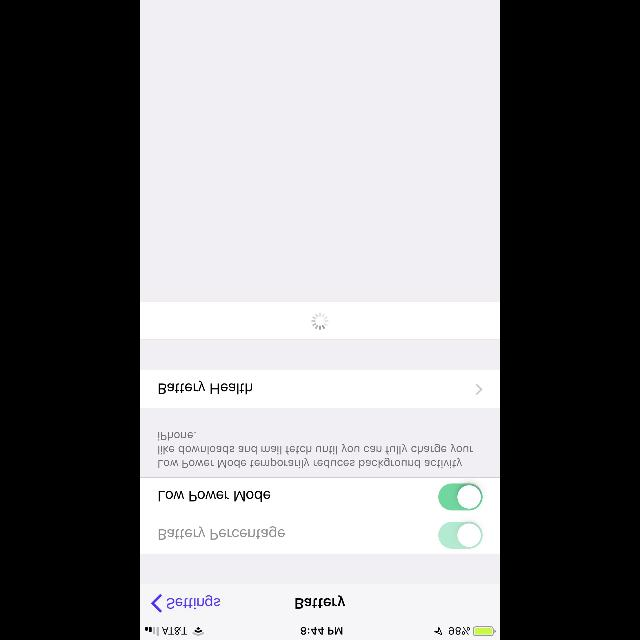icon: (152, 594, 162, 612), (476, 384, 482, 394)
switch: (439, 484, 483, 511), (439, 522, 483, 548)
text: (158, 432, 474, 468), (159, 526, 285, 540), (160, 380, 252, 394), (159, 491, 271, 502), (168, 595, 220, 609), (295, 596, 345, 608)
uppertaskbar: (140, 626, 500, 640)
